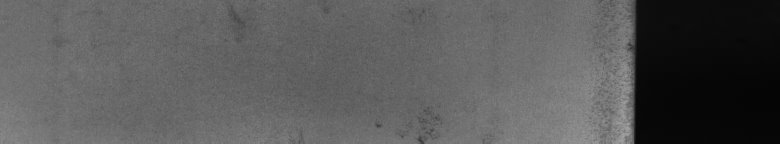ib: (324, 8, 442, 136)
